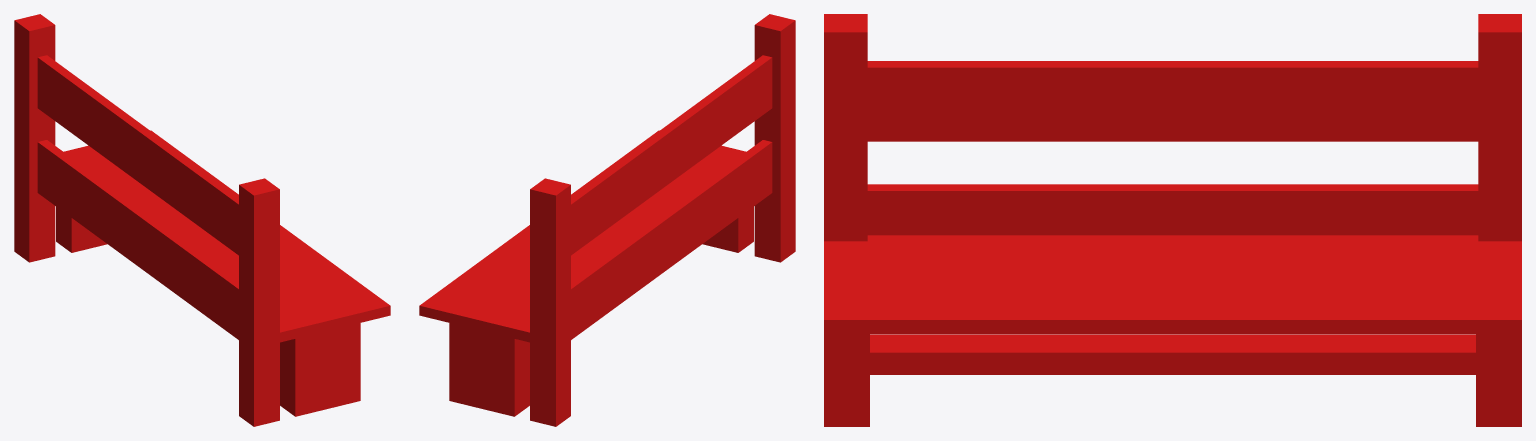
The model's file is Bench.obj.
3 views of the same model, side by side, from view 1: azimuth 30°, elevation 25°; view 2: azimuth 150°, elevation 25°; view 3: azimuth 270°, elevation 25° (orthographic). The views are drawn at different scales.
Size of the model in its own units: 0.3294 by 0.533 by 1.
